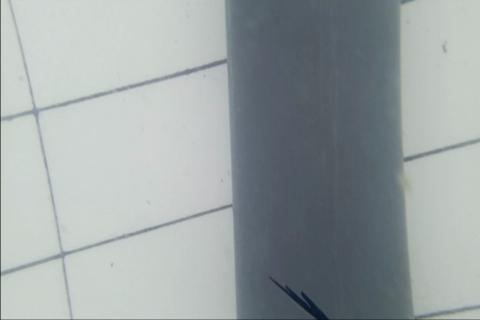keretakan: (265, 272, 329, 320)
